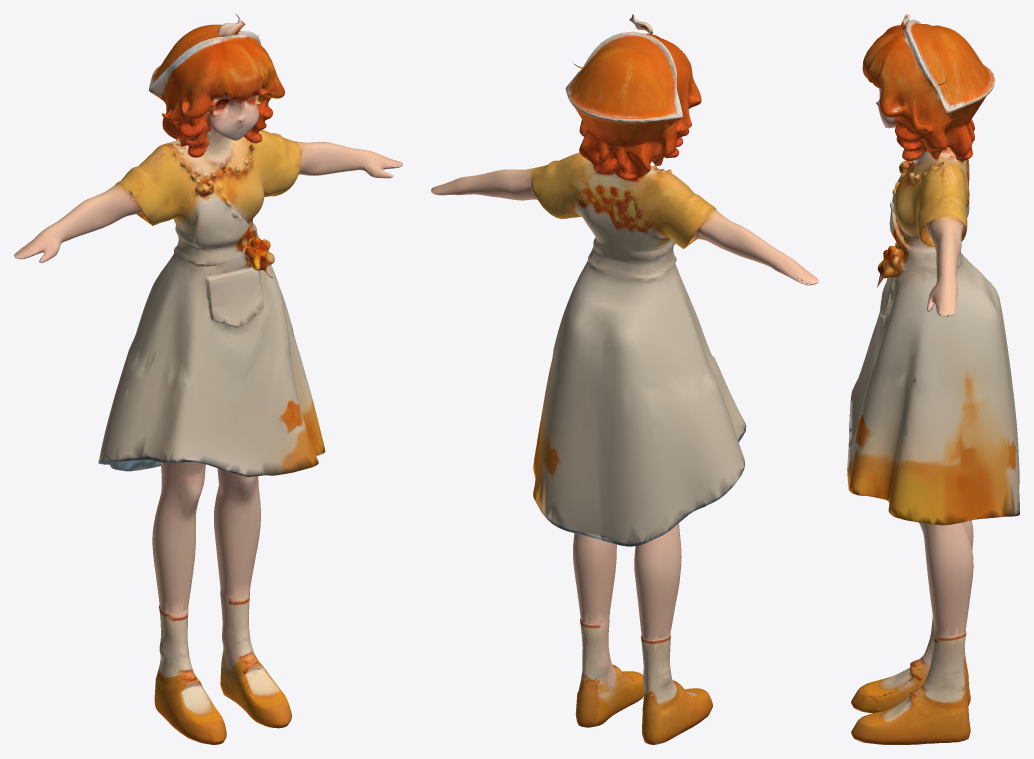
Rendered from puni.glb.
3 views of the same model, side by side, from view 1: azimuth 30°, elevation 25°; view 2: azimuth 150°, elevation 25°; view 3: azimuth 270°, elevation 25° (orthographic). The views are drawn at different scales.
Parts seen in each view (by area): view 1: model_LOD2; view 2: model_LOD2; view 3: model_LOD2.
Boxes of the visible parts, x1,y1,x2,y2 form: model_LOD2: [14, 14, 402, 744]; model_LOD2: [431, 14, 818, 744]; model_LOD2: [847, 14, 1019, 744].
Bounding box in the file's own units: 1.1 × 1.9 × 0.4167.
Materials: 1 (1 with a texture image).
